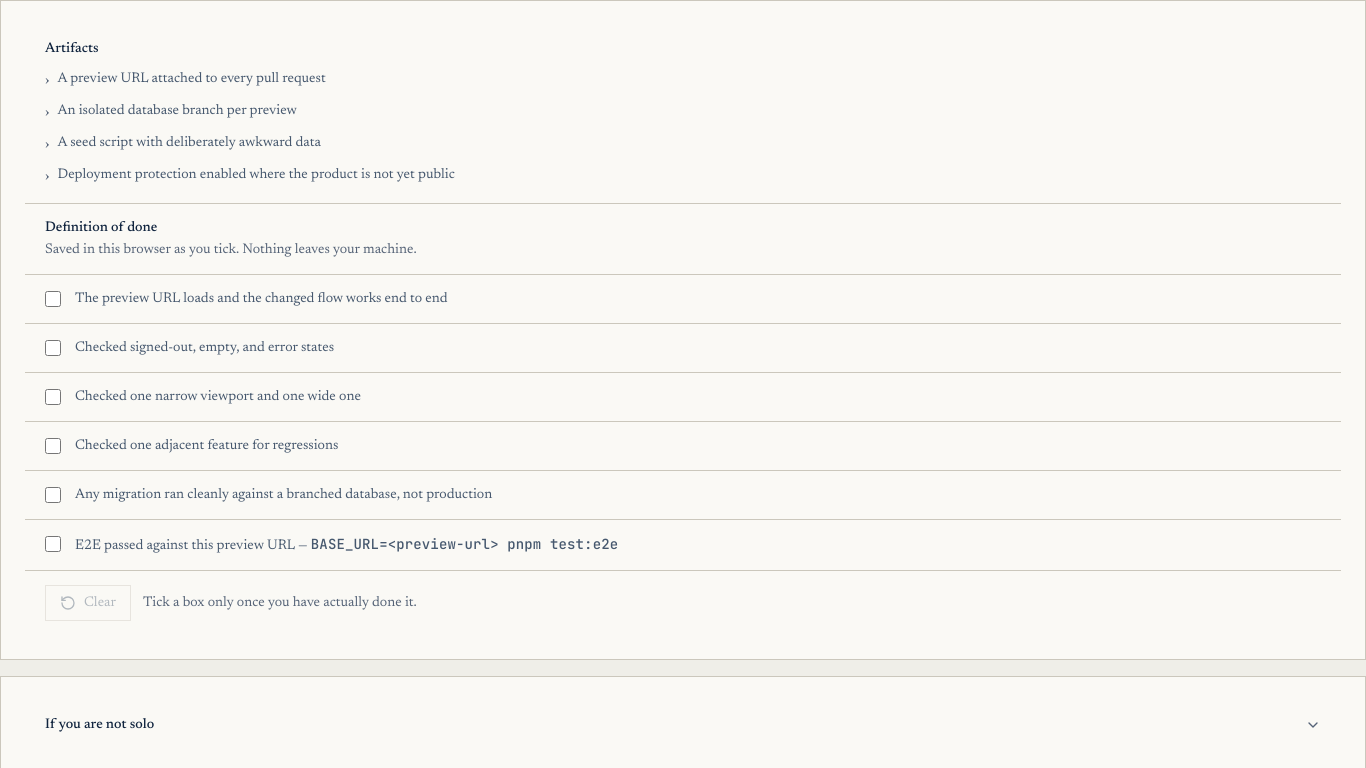
Test: StagingChecklist › ticking a checkbox persists and shows count
Click the checkbox labelled "The preview URL loads and the changed flow works end to end" at point(53, 299), box [45, 291, 61, 307]
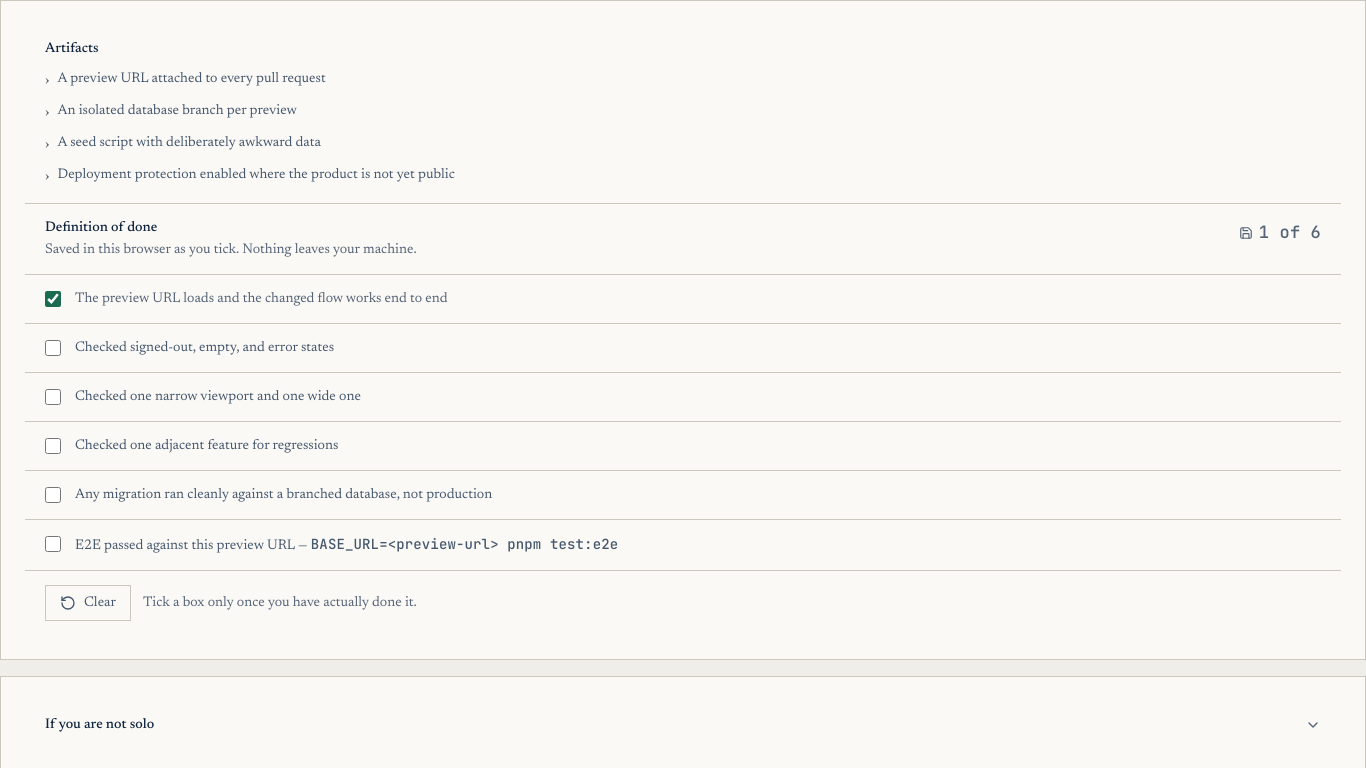
Result: the checkbox labelled "The preview URL loads and the changed flow works end to end" is checked at [45, 291, 61, 307]
Result: the text "1 of 6" is shown at [1239, 218, 1321, 248]
